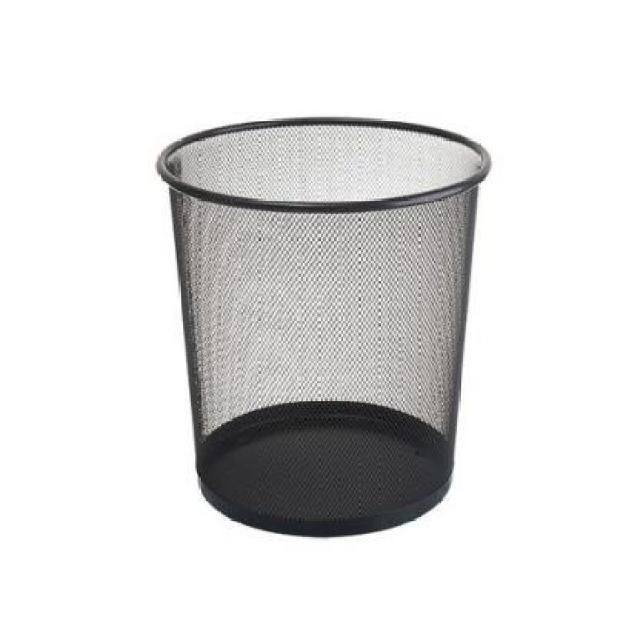dustbin: (151, 111, 495, 543)
